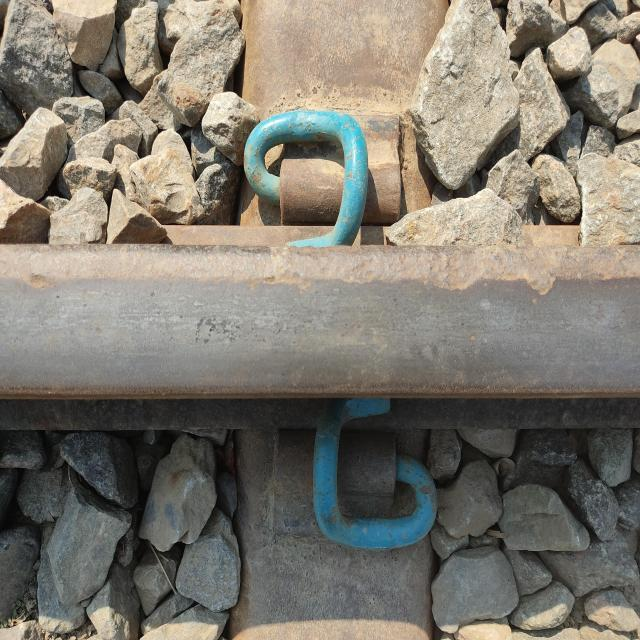broken_rail_medium: (177, 313, 241, 345), (27, 270, 54, 291)
